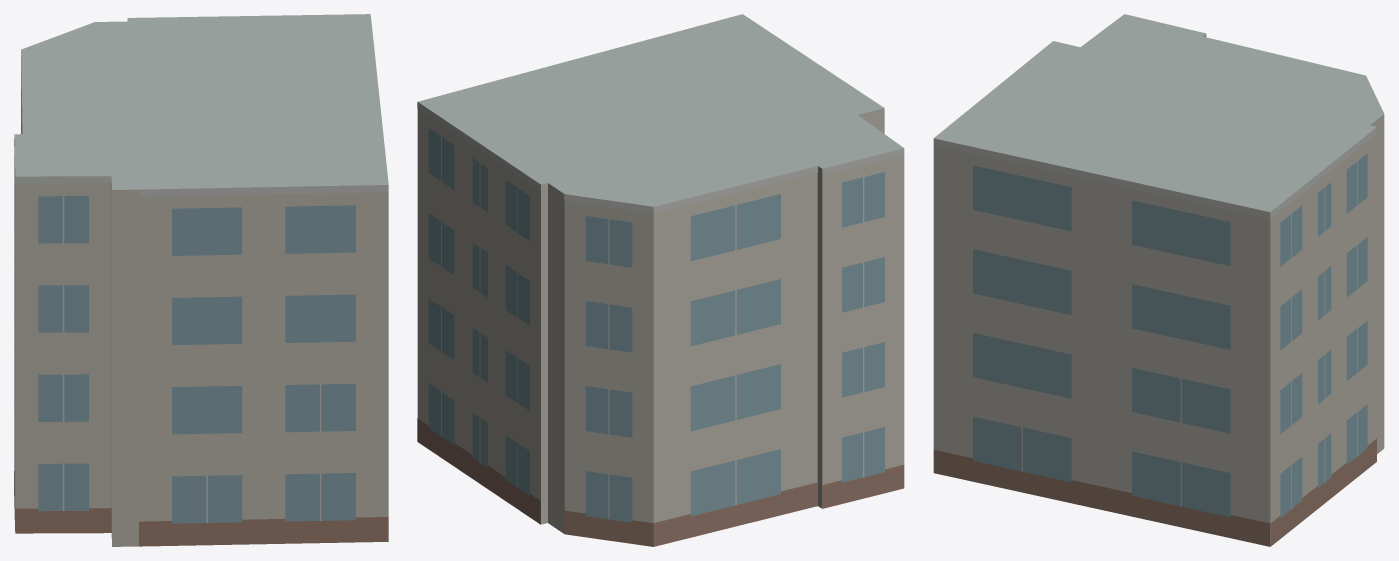
The model's file is survey-upis-32680505.glb.
3 views of the same model, side by side, from view 1: azimuth 30°, elevation 25°; view 2: azimuth 150°, elevation 25°; view 3: azimuth 270°, elevation 25° (orthographic). The views are drawn at different scales.
Parts seen in each view (by area): view 1: survey-upis-32680505.tmp; view 2: survey-upis-32680505.tmp; view 3: survey-upis-32680505.tmp.
Part boxes in pixels (x1=…): survey-upis-32680505.tmp: x1=14, y1=14, x2=388, y2=546; survey-upis-32680505.tmp: x1=417, y1=14, x2=904, y2=546; survey-upis-32680505.tmp: x1=933, y1=14, x2=1384, y2=546.
Bounding box in the file's own units: 15.5 × 12.2 × 14.9.
